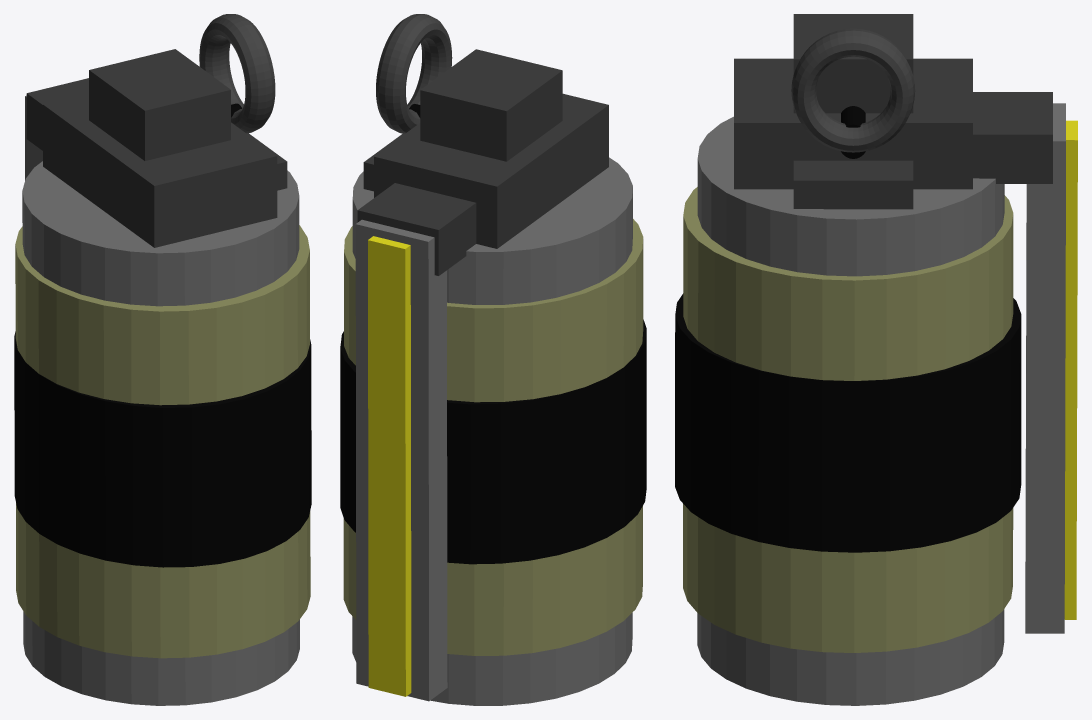
Rendered from Grenade02.fbx.
3 renders of one model, left to right at view 1: azimuth 30°, elevation 25°; view 2: azimuth 150°, elevation 25°; view 3: azimuth 270°, elevation 25°, orthographic. The views are drawn at different scales.
Parts seen in each view (by area): view 1: Cylinder.002, Cylinder.003, Cylinder, Cube.001, Cube.004, Torus, Cube, Cube.002; view 2: Cylinder.002, Cylinder.003, Cylinder, Cube.002, Cube.003, Cube.001, Cube.004, Cube, Torus; view 3: Cylinder.002, Cylinder.003, Cylinder, Cube.002, Cube.001, Torus, Cube, Cube.004, Cube.003, Cube.005.
Part boxes in pixels (<box>): Cylinder.002: <box>15,225,310,658</box>; Cylinder.003: <box>14,331,311,567</box>; Cylinder: <box>22,161,299,705</box>; Cube.001: <box>43,93,277,247</box>; Cube.004: <box>89,49,230,160</box>; Torus: <box>199,14,275,133</box>; Cube: <box>26,78,88,150</box>; Cube.002: <box>25,95,42,180</box>; Cylinder.002: <box>343,219,643,655</box>; Cylinder.003: <box>340,319,646,564</box>; Cylinder: <box>352,157,632,705</box>; Cube.002: <box>355,219,447,701</box>; Cube.003: <box>368,236,411,696</box>; Cube.001: <box>374,93,608,248</box>; Cube.004: <box>420,49,562,161</box>; Cube: <box>357,183,476,275</box>; Torus: <box>376,14,452,133</box>; Cylinder.002: <box>683,187,1013,652</box>; Cylinder.003: <box>675,293,1021,552</box>; Cylinder: <box>697,116,1004,705</box>; Cube.002: <box>1025,103,1065,633</box>; Cube.001: <box>734,58,972,189</box>; Torus: <box>791,28,915,152</box>; Cube: <box>973,92,1052,183</box>; Cube.004: <box>793,14,913,113</box>; Cube.003: <box>1064,120,1077,619</box>; Cube.005: <box>793,160,913,209</box>.
Size of the model in its own units: 141 by 321 by 180.
